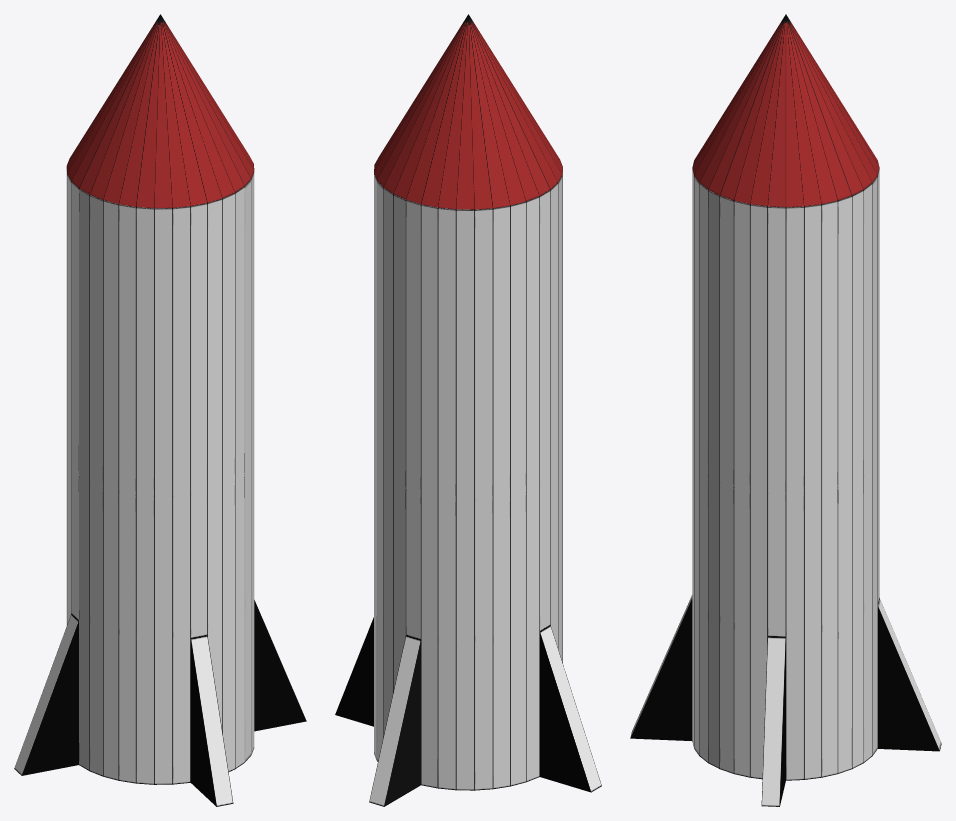
File: missile1X3.obj
The picture shows the model from 3 angles, left to right: view 1: azimuth 30°, elevation 25°; view 2: azimuth 150°, elevation 25°; view 3: azimuth 270°, elevation 25°; orthographic projection.
Parts seen in each view (by area): view 1: missile1X3_Cylinder; view 2: missile1X3_Cylinder; view 3: missile1X3_Cylinder.
Boxes of the visible parts, box(x1,y1,x2,y2) form: missile1X3_Cylinder: box(14, 14, 306, 806); missile1X3_Cylinder: box(335, 14, 601, 806); missile1X3_Cylinder: box(630, 14, 941, 806).
Bounding box in the file's own units: 2.33 × 6 × 2.33.
1 material, 1 textured.
